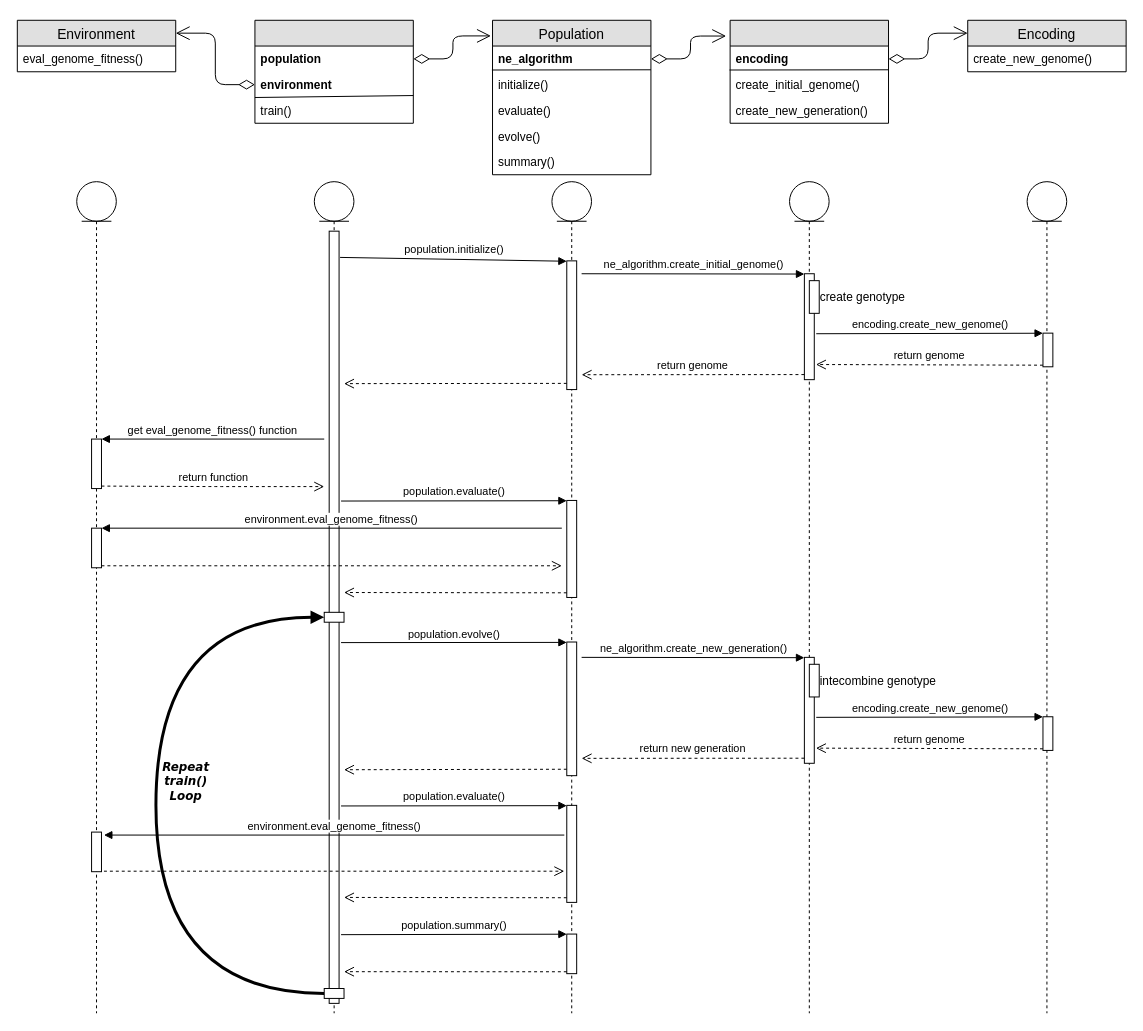
Image size: 1143x1031. Some labels were removed from this diagram. Here are the shapes that lost their labels. From the top down, the box of each, then its label:
(254, 19, 413, 123): EvolutionEngine
(729, 19, 889, 123): NE Algorithm
